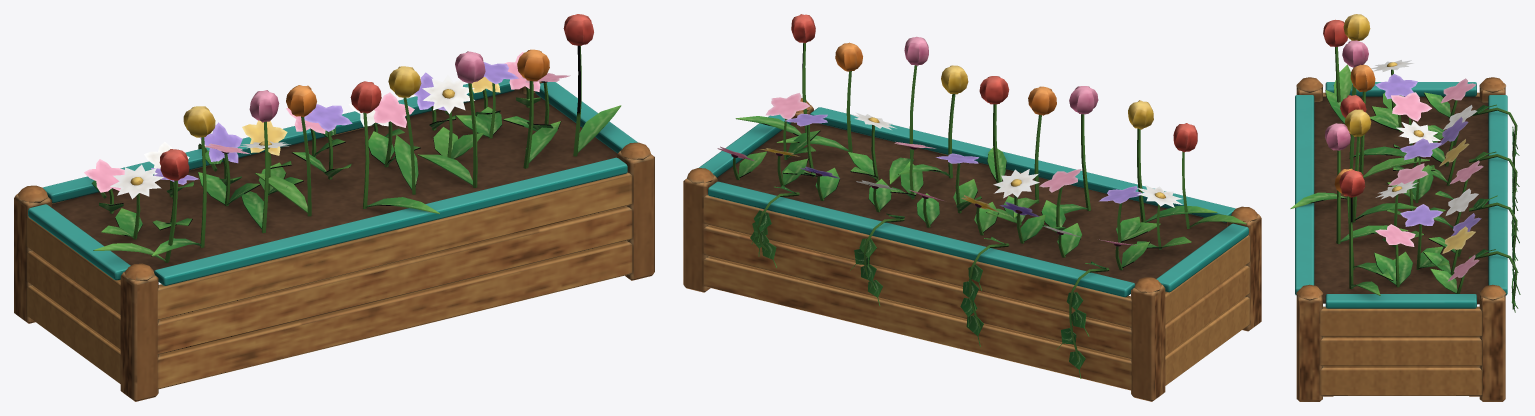
Rendered from flower-bed.fbx.
3 renders of one model, left to right at view 1: azimuth 30°, elevation 25°; view 2: azimuth 150°, elevation 25°; view 3: azimuth 270°, elevation 25°, orthographic. The views are drawn at different scales.
Visible parts, largest first — view 1: Body; view 2: Body, Anim Sway; view 3: Body, Anim Sway.
Part boxes in pixels (x1,y1,x2,y2): Body: (14,14,654,401); Body: (683,14,1261,401); Anim Sway: (750,185,1109,378); Body: (1290,14,1507,401); Anim Sway: (1469,104,1520,312).
Size of the model in its own units: 2.07 by 0.8983 by 0.8806.
